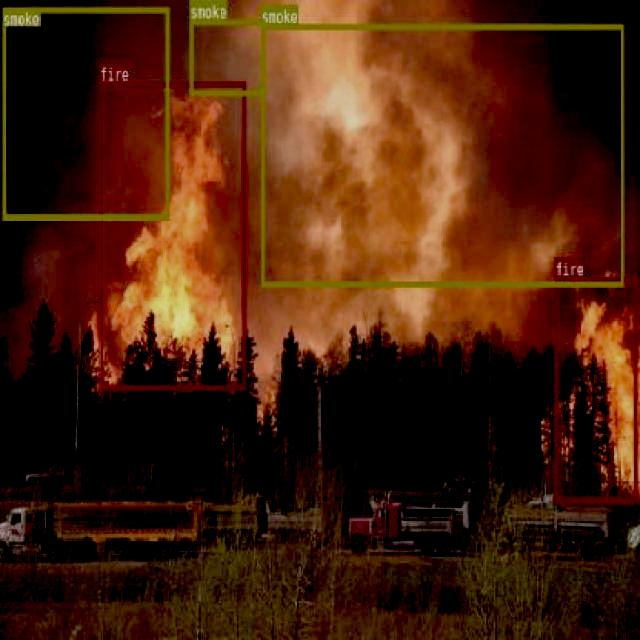fire: (98, 82, 246, 390), (554, 275, 637, 503)
smoke: (260, 23, 623, 286), (2, 6, 168, 219), (189, 19, 265, 95)
